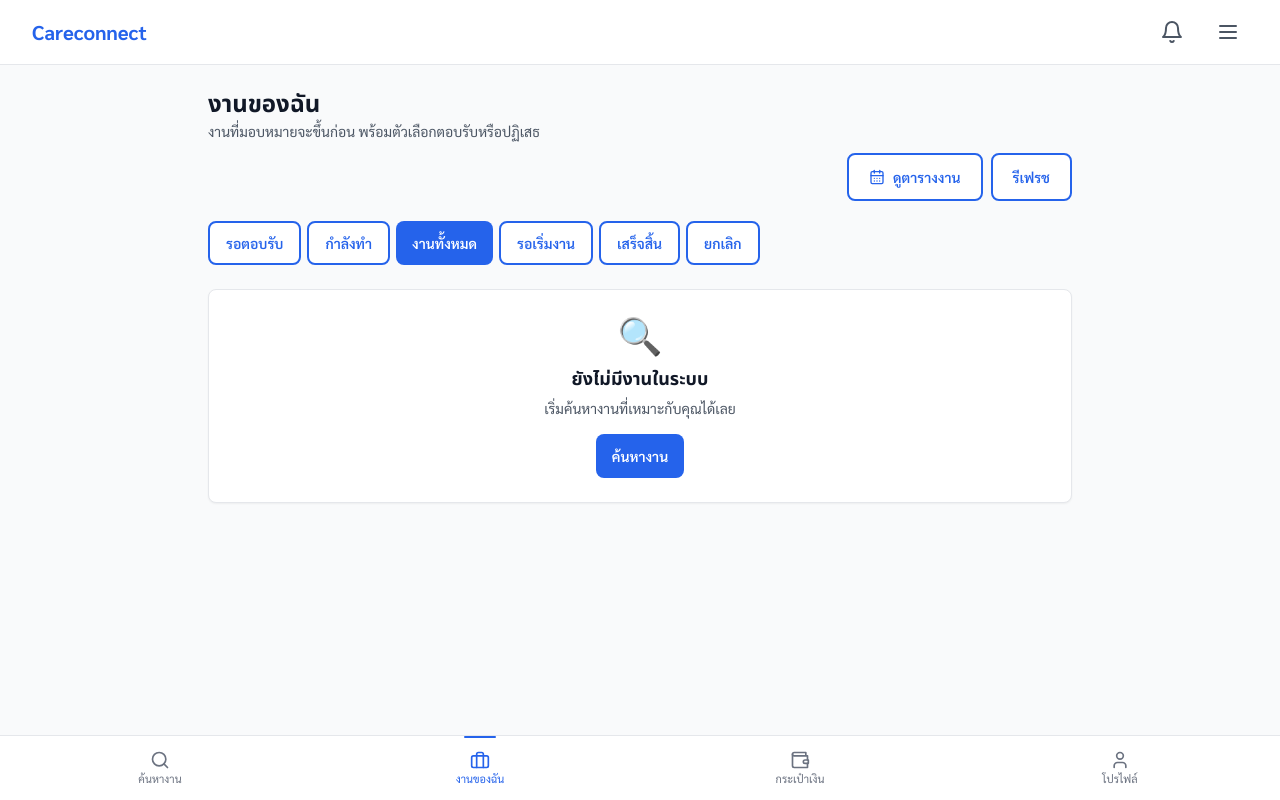
Caregiver navigation flows › navigates from my jobs empty state to job feed
Click the button "ค้นหางาน": [640, 456] box x1=596 y1=434 x2=684 y2=478
(page scrolled)
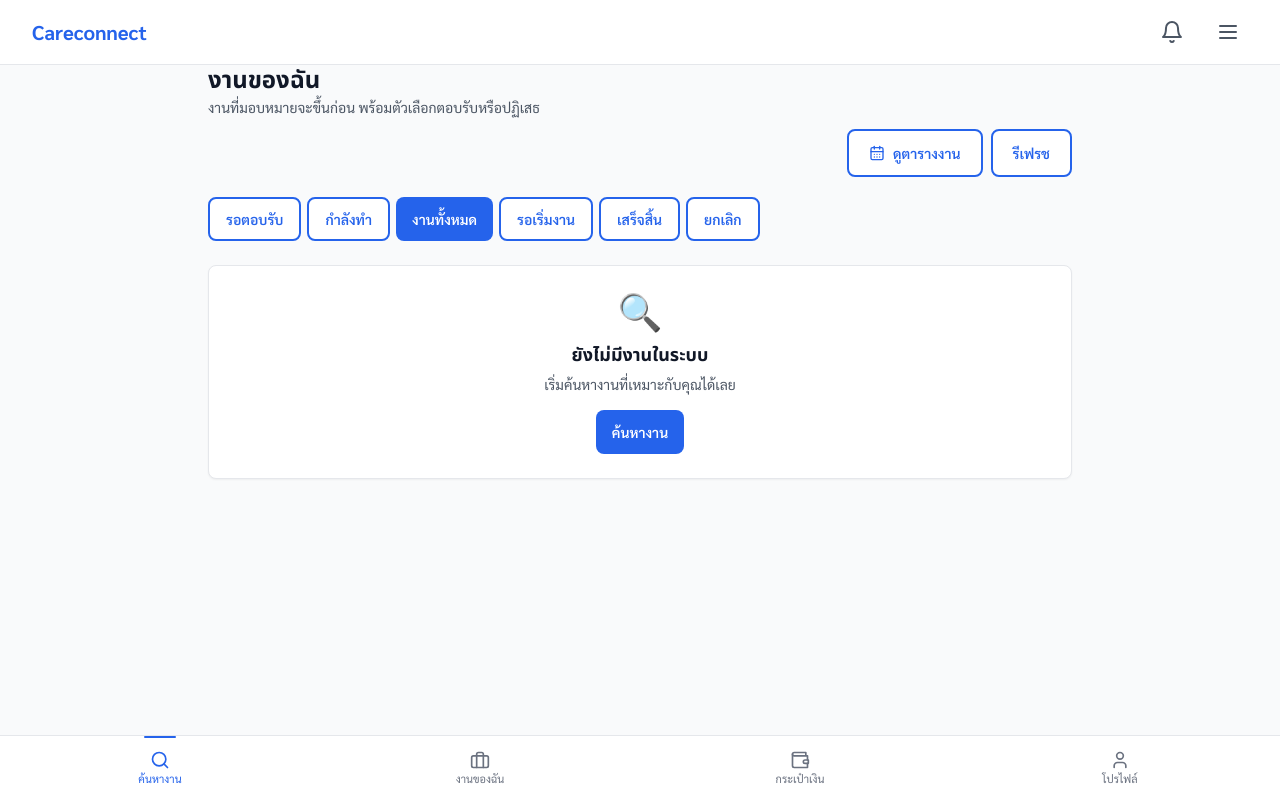
Check: the text with test id "location" reads "/caregiver/jobs/feed", box x1=0 y1=777 x2=142 y2=798
